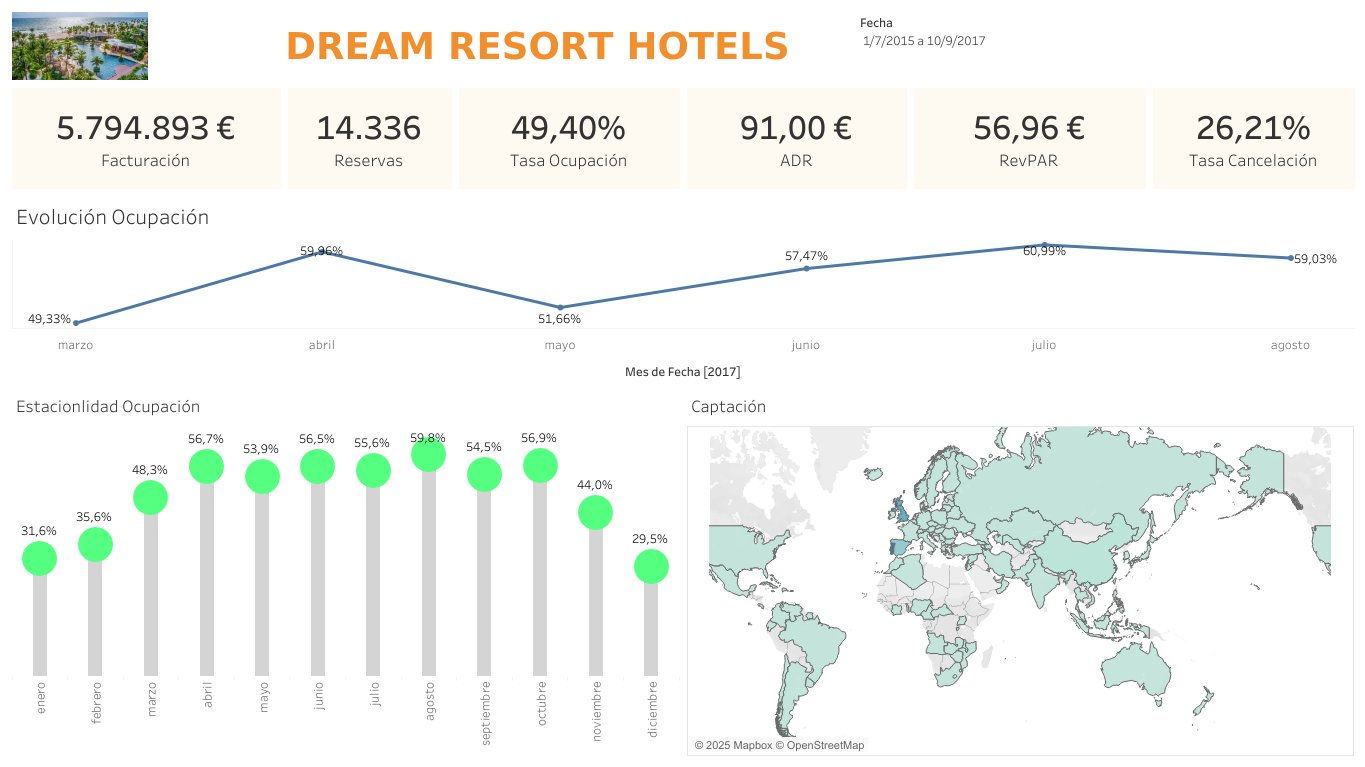

The dashboard page shown, as its layout file describes it:
{"tool":"tableau","page":{"name":"Dashboard 1","canvas":[1366,768],"ordinal":0},"visuals":[{"type":"image","param":"Image/DreamResortHotels.jpg","box":[8,8,211,76]},{"type":"text","box":[219,8,637,76]},{"type":"filter","title":"KPI Reservas","param":"[federated.18hss6c1lan51112yuffr0r1m01h].[none:fecha:qk]","box":[856,8,502,76]},{"type":"worksheet","title":"KPI Facturación","mark":"Automatic","box":[8,84,276,108]},{"type":"worksheet","title":"KPI Reservas","mark":"Automatic","box":[284,84,171,108]},{"type":"worksheet","title":"KPI Ocupación","mark":"Automatic","box":[455,84,228,108]},{"type":"worksheet","title":"KPI ADR","mark":"Automatic","box":[683,84,227,108]},{"type":"worksheet","title":"KPI RevPAR","mark":"Automatic","box":[910,84,239,108]},{"type":"worksheet","title":"KPI Tasa Cancelación","mark":"Automatic","box":[1149,84,209,108]},{"type":"worksheet","title":"Evolución Ocupación","mark":"Automatic","rows":["Calculation_1445092590156382209"],"cols":["fecha"],"box":[8,192,1350,192]},{"type":"worksheet","title":"Estacionlidad Ocupación","mark":"Bar","rows":["Calculation_1445092590156382209","Calculation_1445092590156382209"],"cols":["fecha"],"box":[8,384,675,376]},{"type":"worksheet","title":"Mapa","mark":"Automatic","box":[683,384,675,376]}]}

Visuals, with their boxes in screenshot pixels (x1, y1, x2, y2), scaled from the page's 1366x768 canvas onto the 1365x767 screenshot:
image: [8, 8, 219, 84]
text: [219, 8, 855, 84]
"KPI Reservas" filter: [855, 8, 1357, 84]
"KPI Facturación" worksheet: [8, 84, 284, 192]
"KPI Reservas" worksheet: [284, 84, 455, 192]
"KPI Ocupación" worksheet: [455, 84, 682, 192]
"KPI ADR" worksheet: [682, 84, 909, 192]
"KPI RevPAR" worksheet: [909, 84, 1148, 192]
"KPI Tasa Cancelación" worksheet: [1148, 84, 1357, 192]
"Evolución Ocupación" worksheet: [8, 192, 1357, 384]
"Estacionlidad Ocupación" worksheet (Bar marks): [8, 384, 682, 759]
"Mapa" worksheet: [682, 384, 1357, 759]
